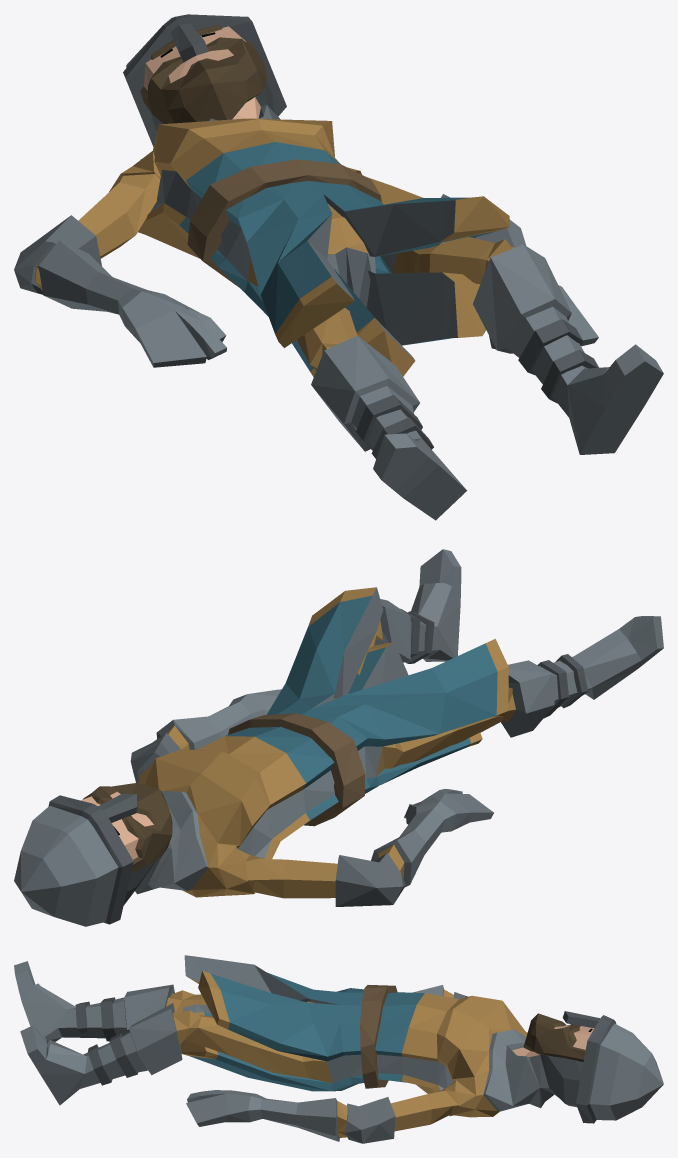
File: prop_dead_soldier.gltf
The picture shows the model from 3 angles, top to bottom: view 1: azimuth 30°, elevation 25°; view 2: azimuth 150°, elevation 25°; view 3: azimuth 270°, elevation 25°; orthographic projection. The views are drawn at different scales.
Parts seen in each view (by area): view 1: prop_dead_soldier; view 2: prop_dead_soldier; view 3: prop_dead_soldier.
Boxes of the visible parts, bbox=[...] form: prop_dead_soldier: bbox=[14, 14, 663, 520]; prop_dead_soldier: bbox=[14, 549, 663, 926]; prop_dead_soldier: bbox=[14, 955, 663, 1143].
Size of the model in its own units: 0.8947 by 0.4287 by 1.86.
1 material, 1 textured.
